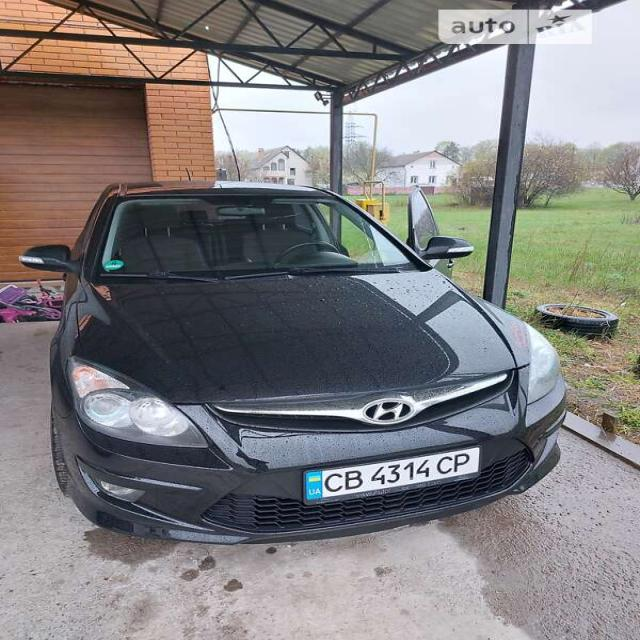plate: (299, 443, 492, 498)
